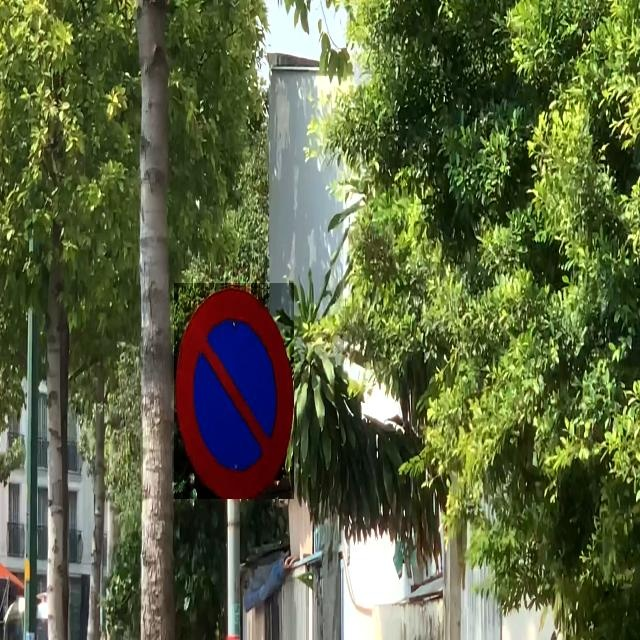bien_cam: (174, 283, 294, 499)
